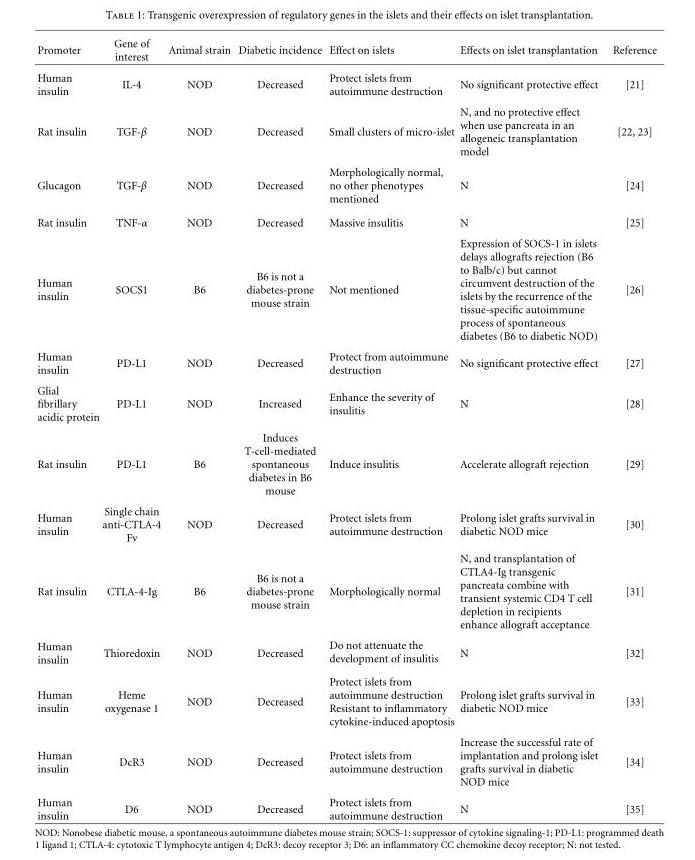table: (36, 37, 655, 821)
table column: (456, 37, 604, 821), (324, 37, 456, 821), (233, 37, 324, 821), (164, 37, 233, 821), (36, 37, 100, 821), (100, 37, 164, 821), (604, 37, 655, 821)
table column header: (36, 37, 655, 66)
table row: (36, 232, 655, 345), (36, 547, 655, 634), (36, 427, 655, 500), (36, 670, 655, 731), (36, 101, 655, 161), (36, 731, 655, 791), (36, 161, 655, 210), (36, 379, 655, 427), (36, 500, 655, 547), (36, 634, 655, 670), (36, 66, 655, 101), (36, 345, 655, 379), (36, 791, 655, 821), (36, 37, 655, 66), (36, 210, 655, 232)
